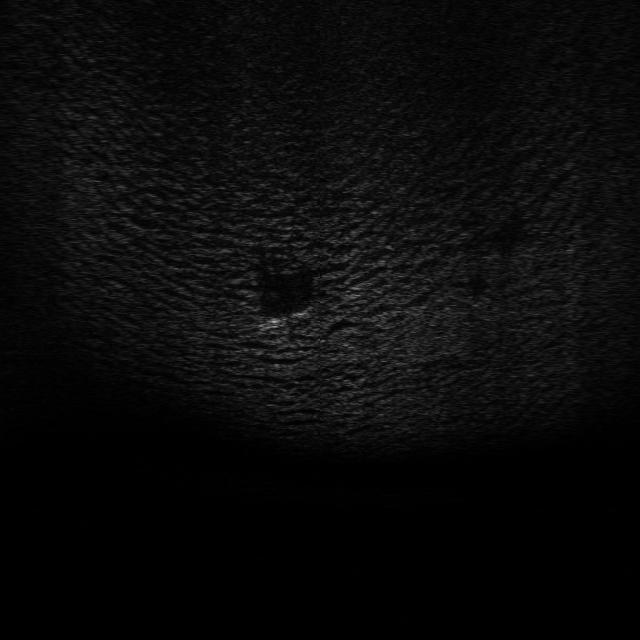plane: (248, 302, 317, 337)
